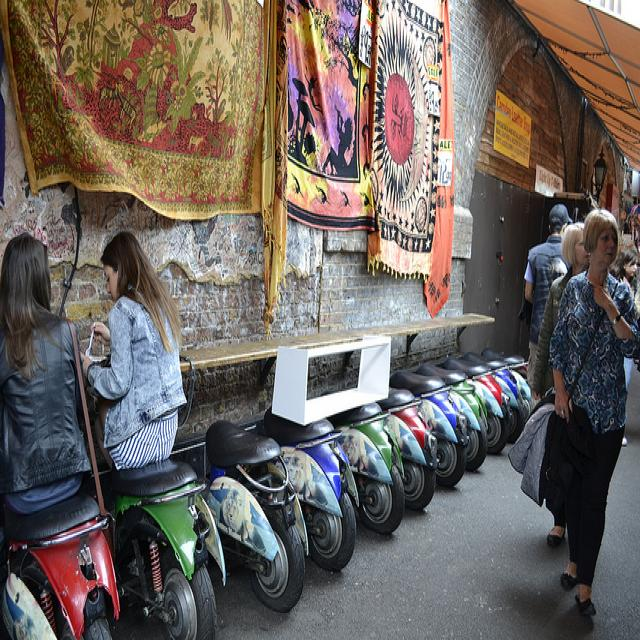motor: (202, 418, 308, 610), (109, 462, 225, 631), (1, 476, 119, 632), (262, 403, 360, 569), (333, 397, 404, 543), (391, 369, 467, 494), (413, 360, 488, 471), (379, 385, 441, 510), (443, 357, 511, 455)
